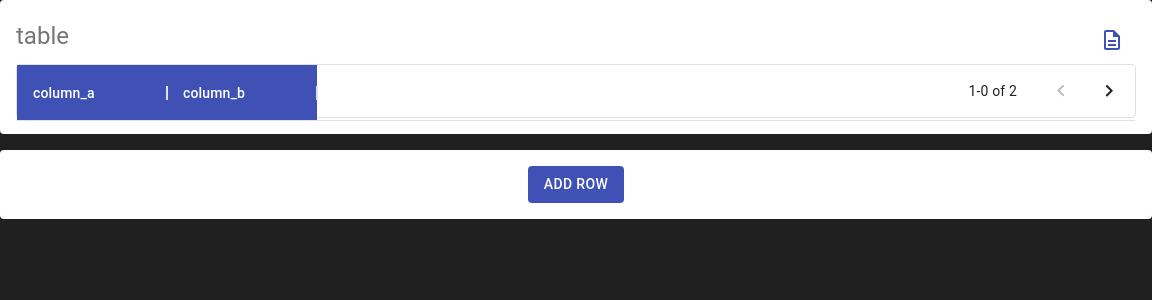
Test case: <DatabaseTableContainer /> › on add row button click › on cancel › should display add row button
Step 1. Click the button "add row" → point(576, 184), box [528, 166, 624, 202]
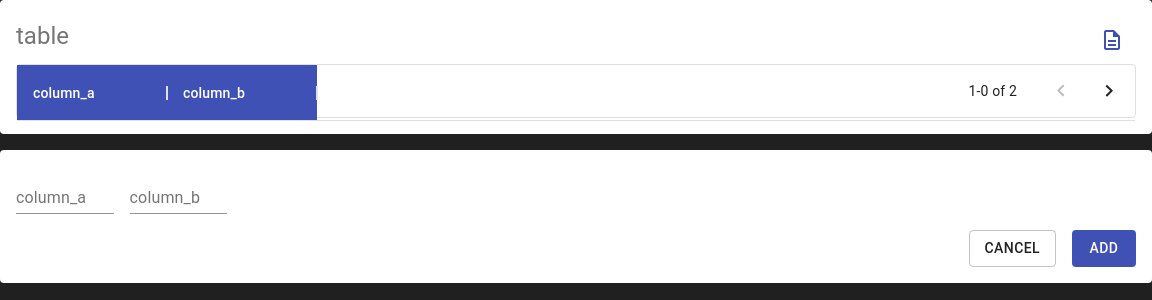
Step 2. Click the button "Cancel" → point(1012, 248), box [968, 230, 1056, 266]
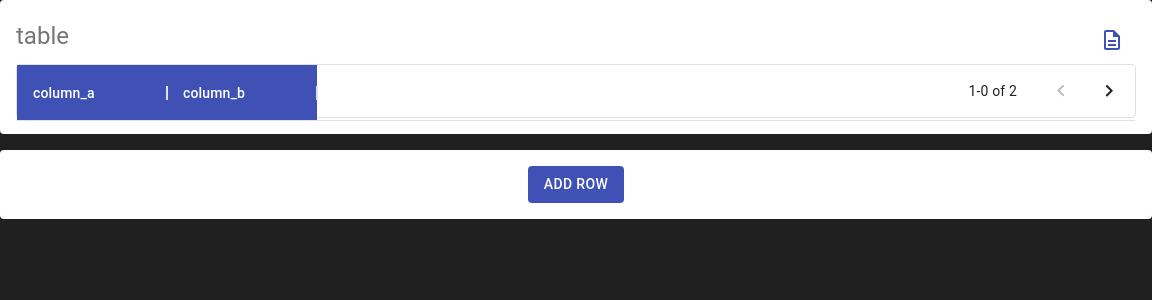
Expected: the button "add row" is shown, [528, 166, 624, 202]
